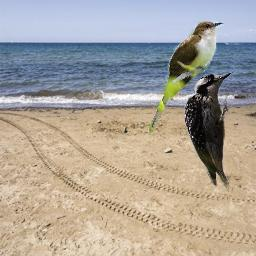Cuckoo: (147, 20, 224, 134)
Woodpecker: (180, 66, 237, 192)
